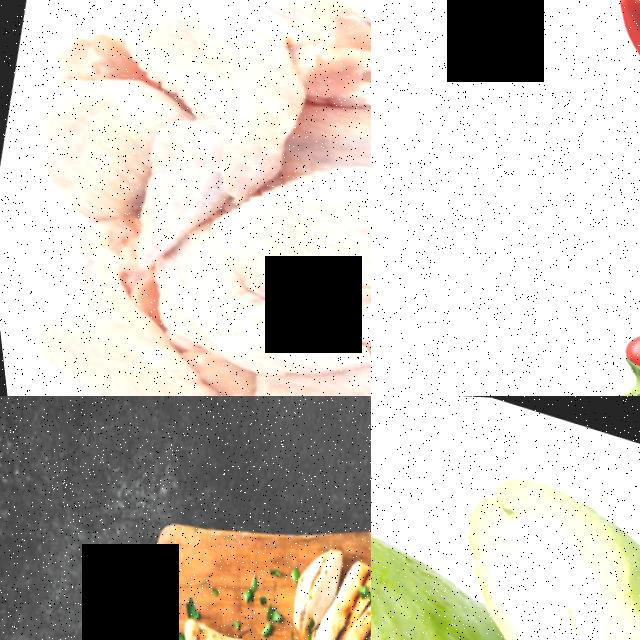chayote: (446, 465, 640, 640), (371, 448, 478, 640)
chicken wing: (50, 0, 371, 318), (0, 230, 326, 396)
chilli: (499, 0, 640, 396)
